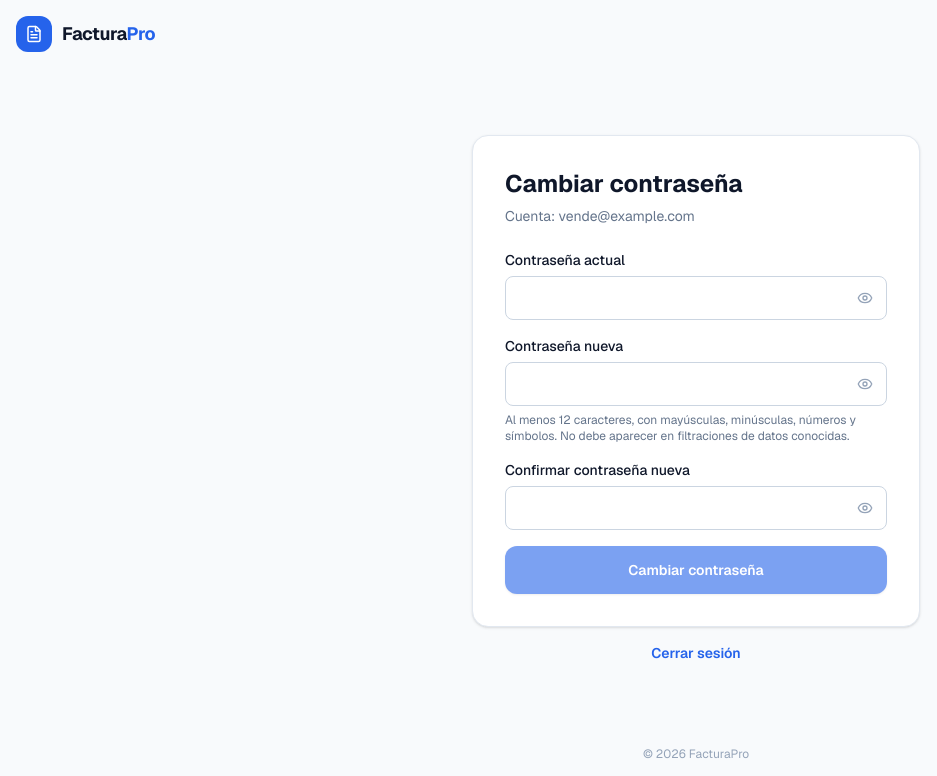
Test: /cambiar-contrasena (Fase 6.32) › muestra los errores de Laravel junto a cada campo y no toca el token
The width and height of the screenshot is (937, 776).
Type "equivocada" into the password field labelled "Contraseña actual". click: coordinates (696, 298)
box: [505,276,887,320]
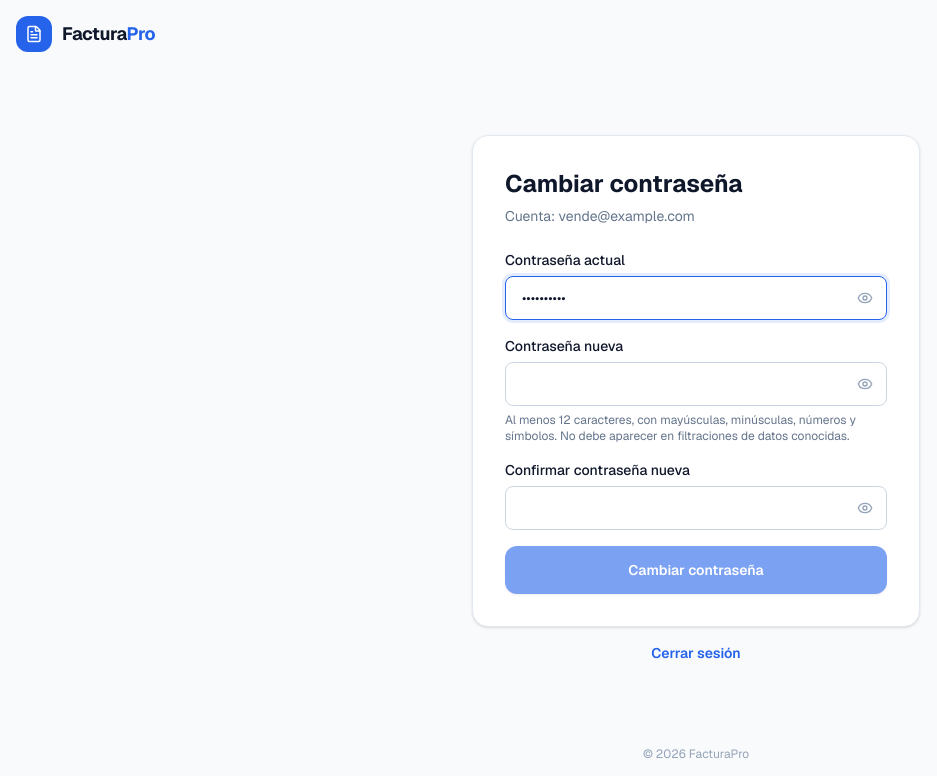
Type "SinSimbolos2026x" into the password field labelled "Contraseña nueva". click: coordinates (696, 384)
box: [505,362,887,406]
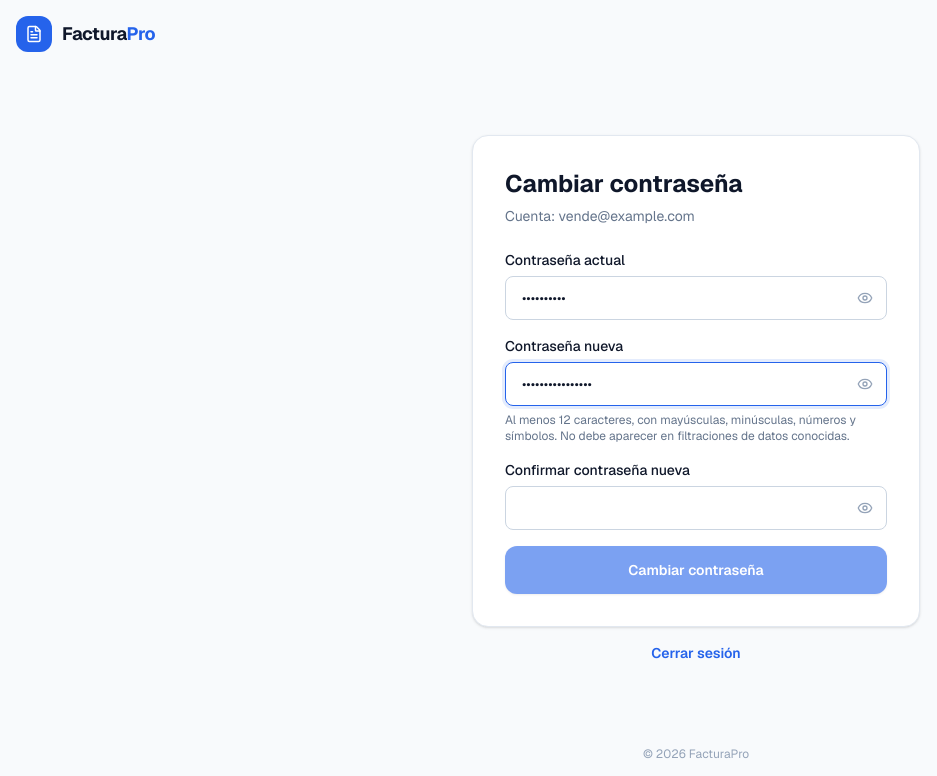
Type "SinSimbolos2026x" into the password field labelled "Confirmar contraseña nueva". click: coordinates (696, 508)
box: [505,486,887,530]
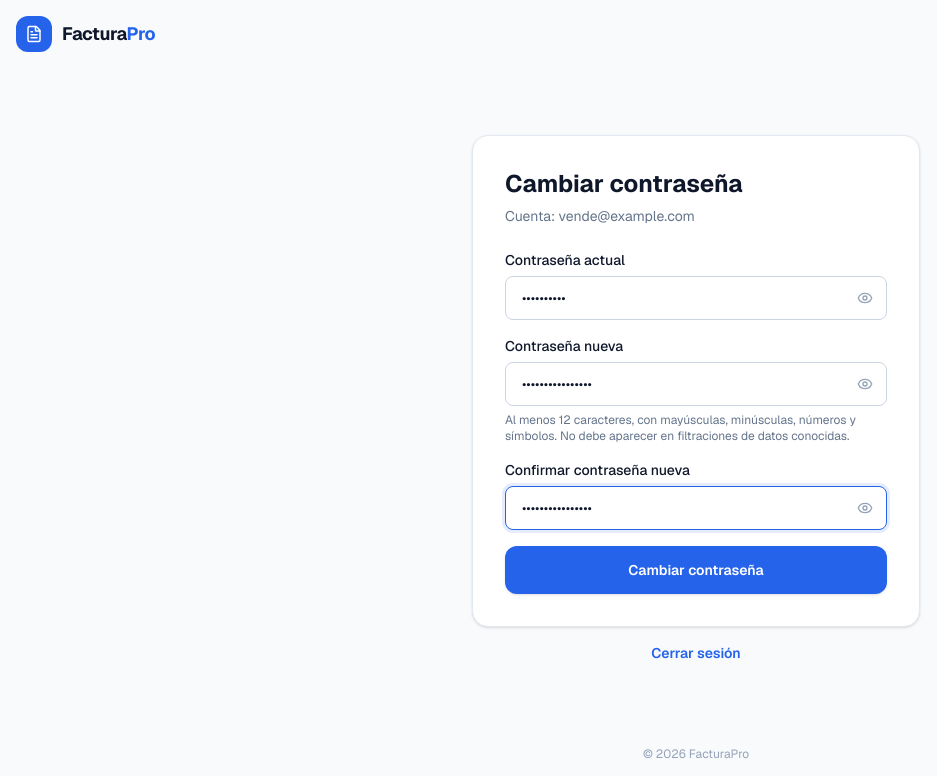
Click the button "Cambiar contraseña". click: coordinates (696, 570)
box: [505,546,887,594]
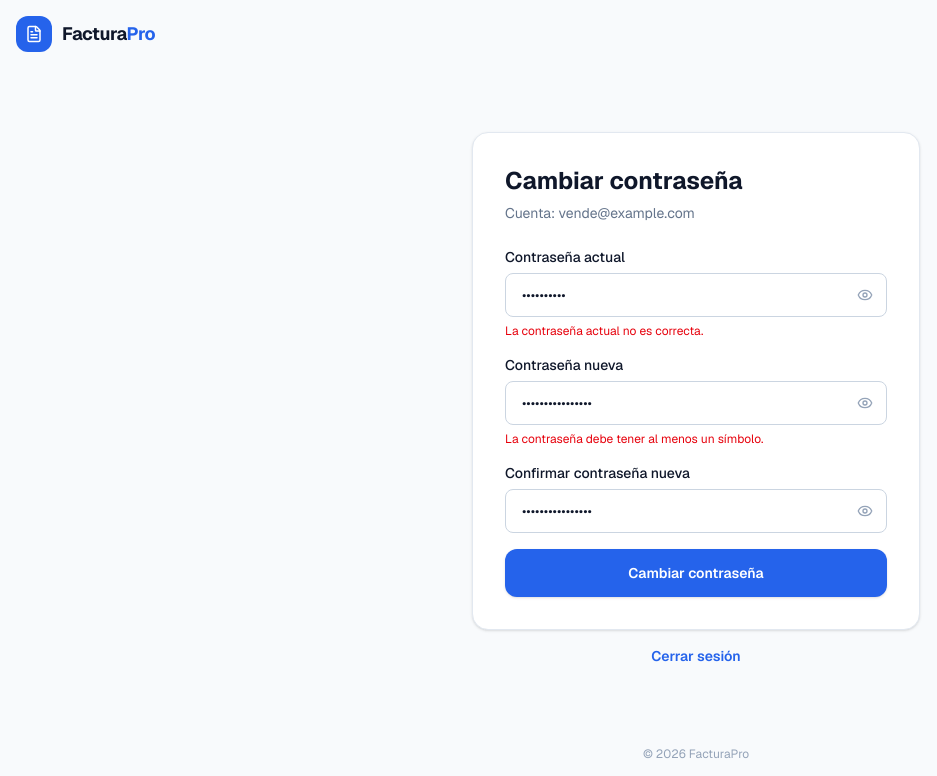
Expected: the text "La contraseña actual no es correcta." is shown, [505,323,703,339]
Expected: the text "La contraseña debe tener al menos un símbolo." is shown, [505,431,764,447]
